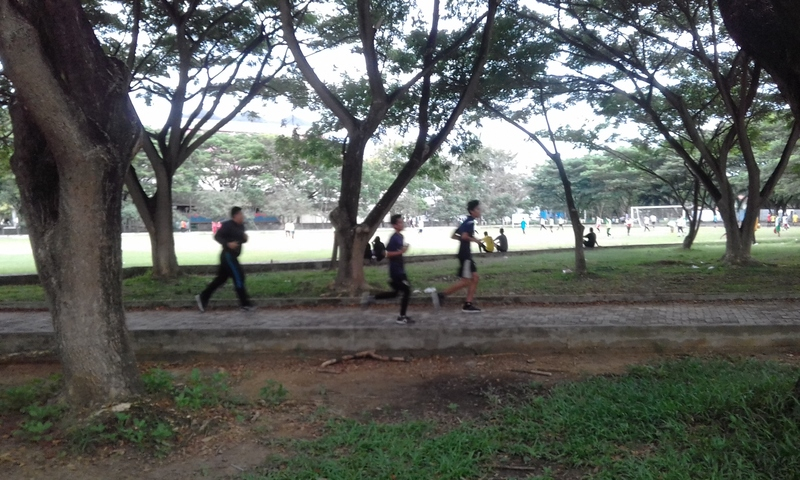person: (193, 205, 256, 316), (430, 198, 486, 317), (369, 210, 423, 326)
